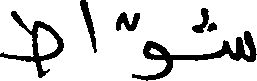ا: (78, 0, 96, 54)
ش: (189, 7, 255, 62)
ط: (0, 8, 62, 78)
و: (131, 10, 172, 79)
